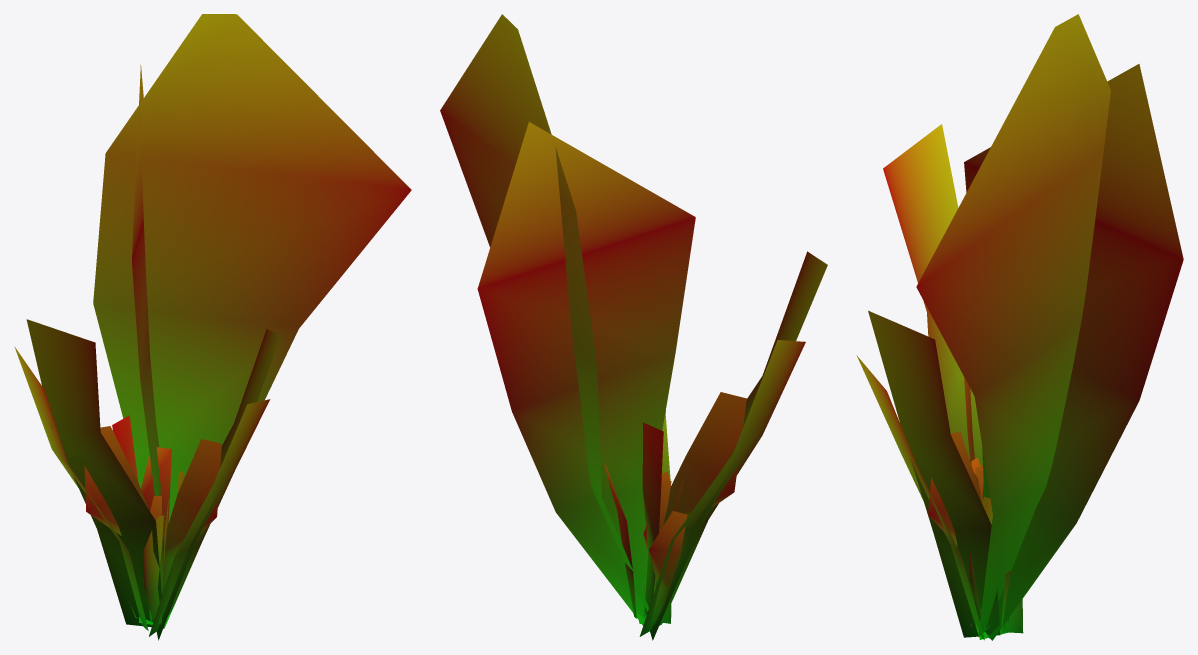
The model's file is Dead Broom Bush_LOD0_Var6_tlpjdhwia.fbx.
The picture shows the model from 3 angles, left to right: view 1: azimuth 30°, elevation 25°; view 2: azimuth 150°, elevation 25°; view 3: azimuth 270°, elevation 25°; orthographic projection. The views are drawn at different scales.
Parts seen in each view (by area): view 1: _5ae7_Var6_LOD0; view 2: _5ae7_Var6_LOD0; view 3: _5ae7_Var6_LOD0.
Boxes of the visible parts, x1,y1,x2,y2 form: _5ae7_Var6_LOD0: (14, 14, 411, 640); _5ae7_Var6_LOD0: (440, 14, 827, 640); _5ae7_Var6_LOD0: (856, 14, 1183, 640).
Bounding box in the file's own units: 18.74 × 27.27 × 11.93.
